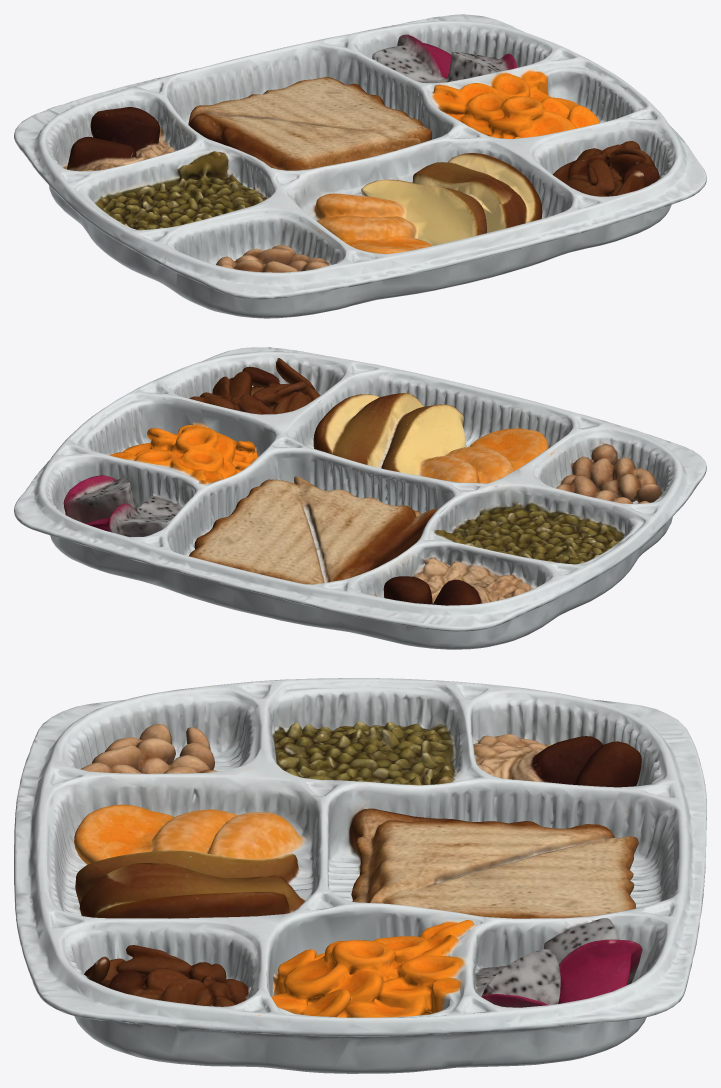
The model's file is Premium_veg_sandwhich.glb.
3 views of the same model, one above another, from view 1: azimuth 30°, elevation 25°; view 2: azimuth 150°, elevation 25°; view 3: azimuth 270°, elevation 25° (orthographic). The views are drawn at different scales.
Size of the model in its own units: 1.9 by 0.2123 by 1.6.
1 material, 1 textured.
